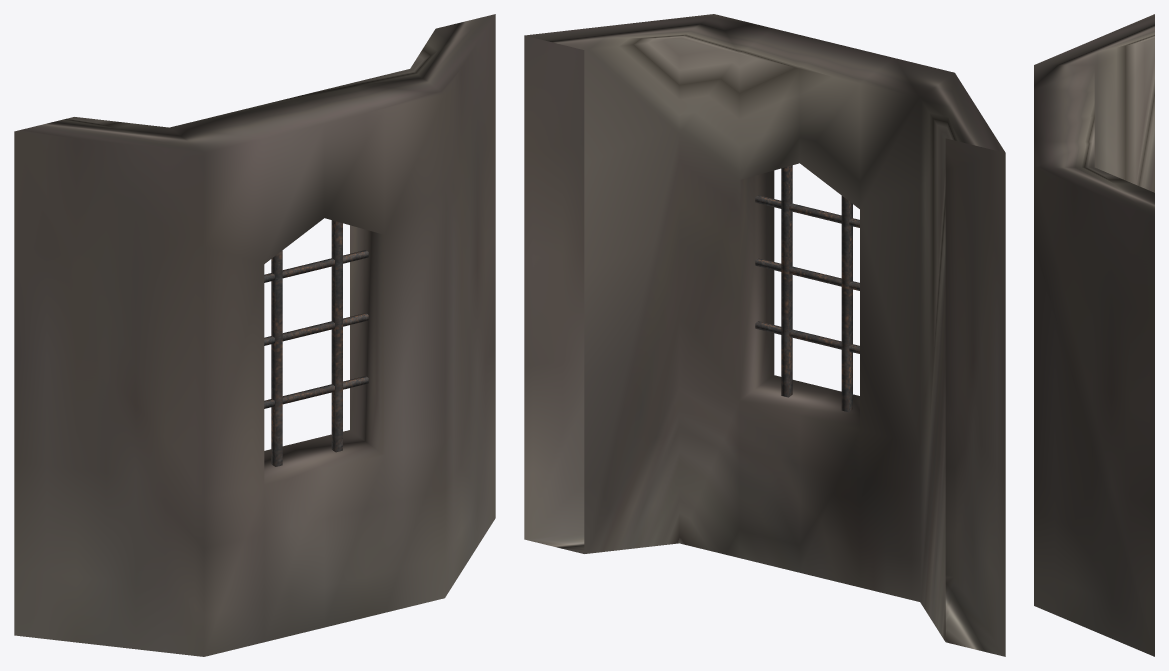
File: towerblock_window_wall2.glb
3 renders of one model, left to right at view 1: azimuth 30°, elevation 25°; view 2: azimuth 150°, elevation 25°; view 3: azimuth 270°, elevation 25°, orthographic. The views are drawn at different scales.
Visible parts, largest first — view 1: towerblock_window_wall2; view 2: towerblock_window_wall2; view 3: towerblock_window_wall2.
Boxes of the visible parts, x1,y1,x2,y2 form: towerblock_window_wall2: (14,14,495,656); towerblock_window_wall2: (524,14,1005,656); towerblock_window_wall2: (1034,14,1154,656).
Bounding box in the file's own units: 8 × 8 × 2.
Materials: 2 (2 with a texture image).
